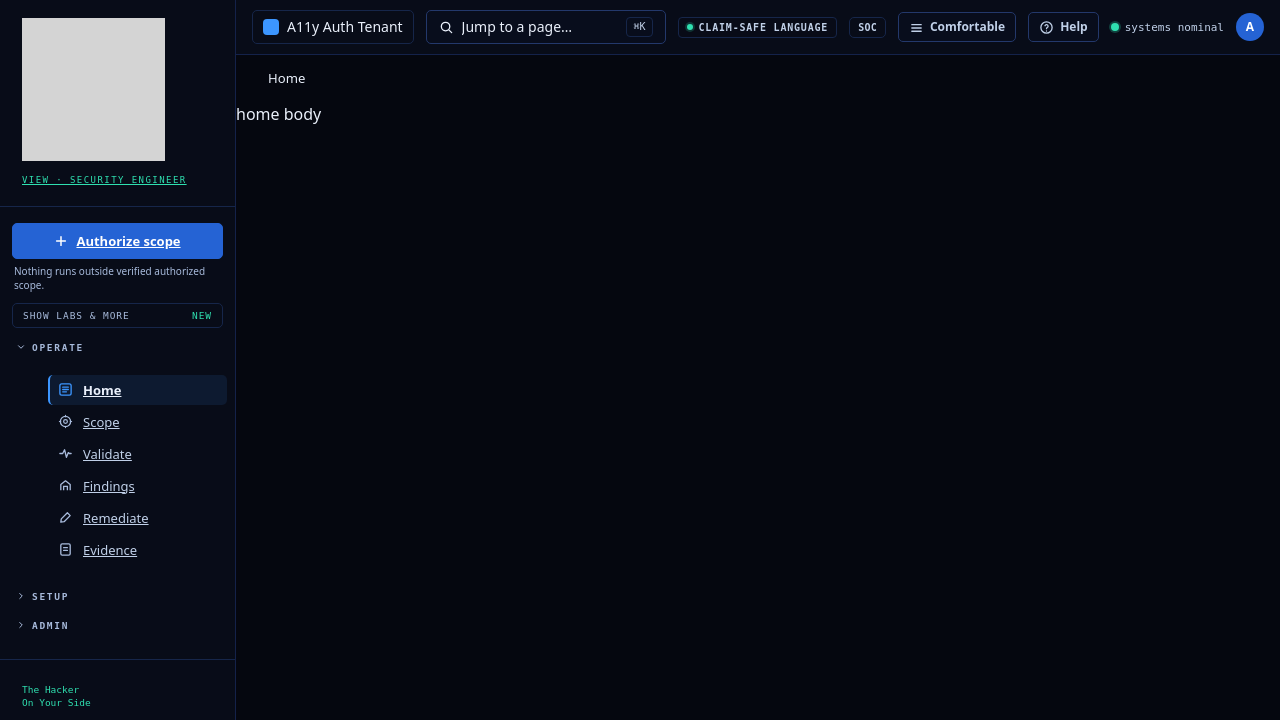
Scenario: AppShell authenticated chrome a11y (loop 8) › account menu omits aria-controls while closed and points at a live panel when open
Click the button named "Account menu" at {"x": 1250, "y": 27}, box [1236, 13, 1264, 41]
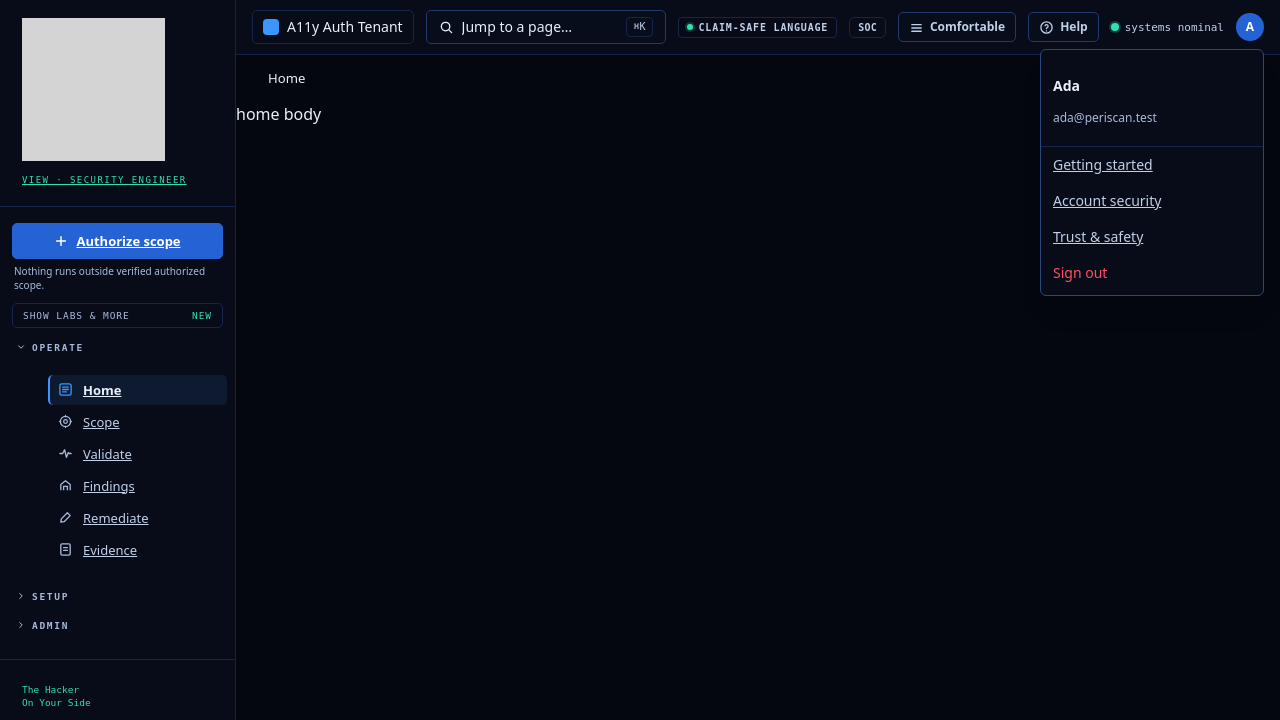
Expected: the button "Sign out" is shown, [1041, 255, 1263, 291]
